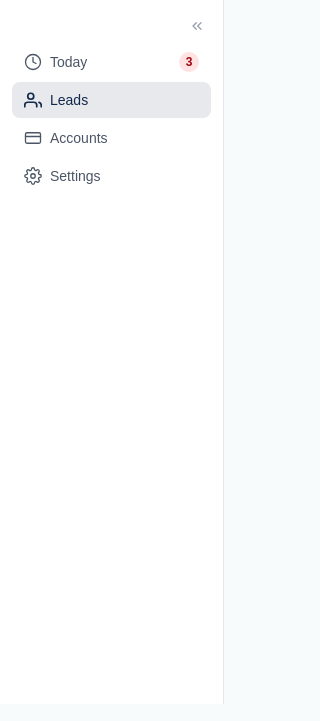
it: CrmNav — collapsible desktop sidebar › clicking the toggle collapses the rail, hides labels, and persists the choice
Click the button with test id "crm-nav-collapse-toggle".
click(197, 26)  # box left=183, top=12, right=211, bottom=40
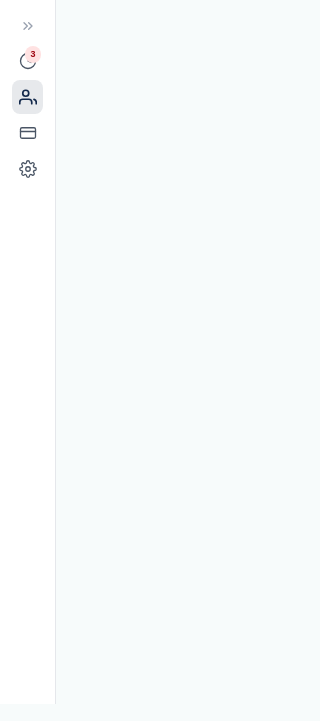
Result: the text "Leads" is gone
